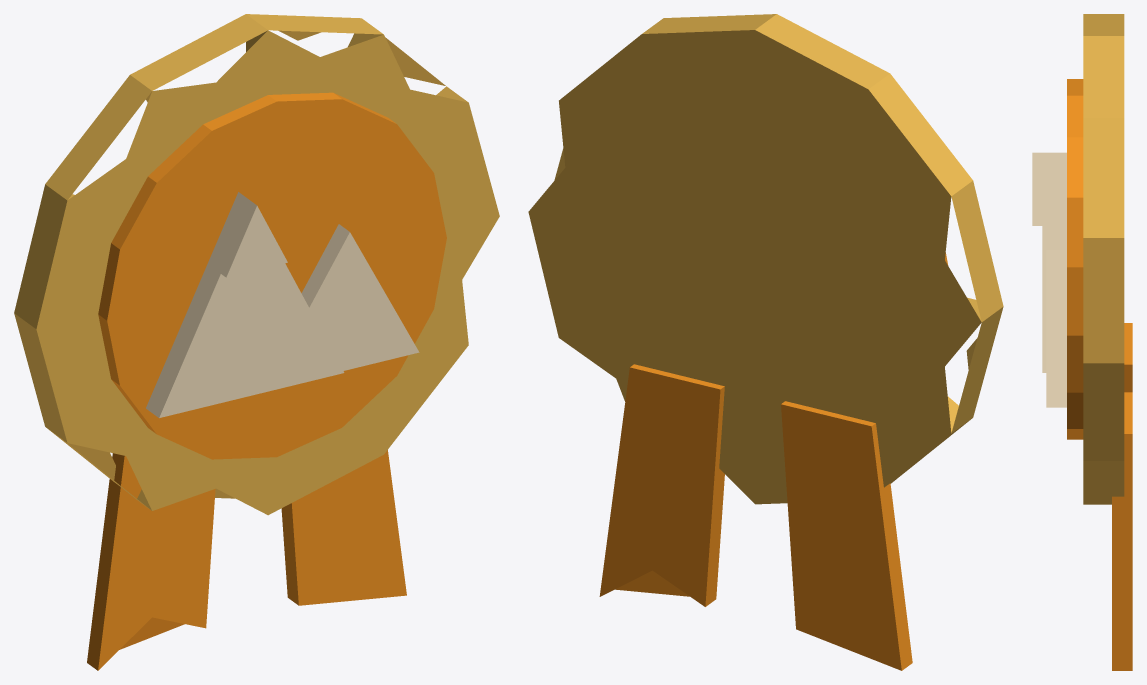
The model's file is badge_brave_try.glb.
3 renders of one model, left to right at view 1: azimuth 30°, elevation 25°; view 2: azimuth 150°, elevation 25°; view 3: azimuth 270°, elevation 25°, orthographic. The views are drawn at different scales.
Parts seen in each view (by area): view 1: badge, ribbon; view 2: badge, ribbon; view 3: badge, ribbon.
Boxes of the visible parts, x1=… form: badge: x1=14, y1=14, x2=499, y2=515; ribbon: x1=87, y1=450, x2=406, y2=670; badge: x1=528, y1=14, x2=1003, y2=504; ribbon: x1=599, y1=364, x2=912, y2=670; badge: x1=1032, y1=14, x2=1124, y2=504; ribbon: x1=1112, y1=323, x2=1132, y2=670.
Bounding box in the file's own units: 0.06 × 0.076 × 0.0122.
